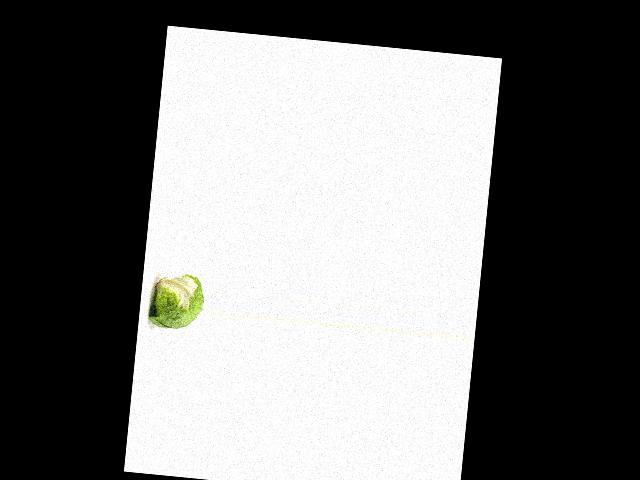lettuce: (145, 269, 206, 332)
